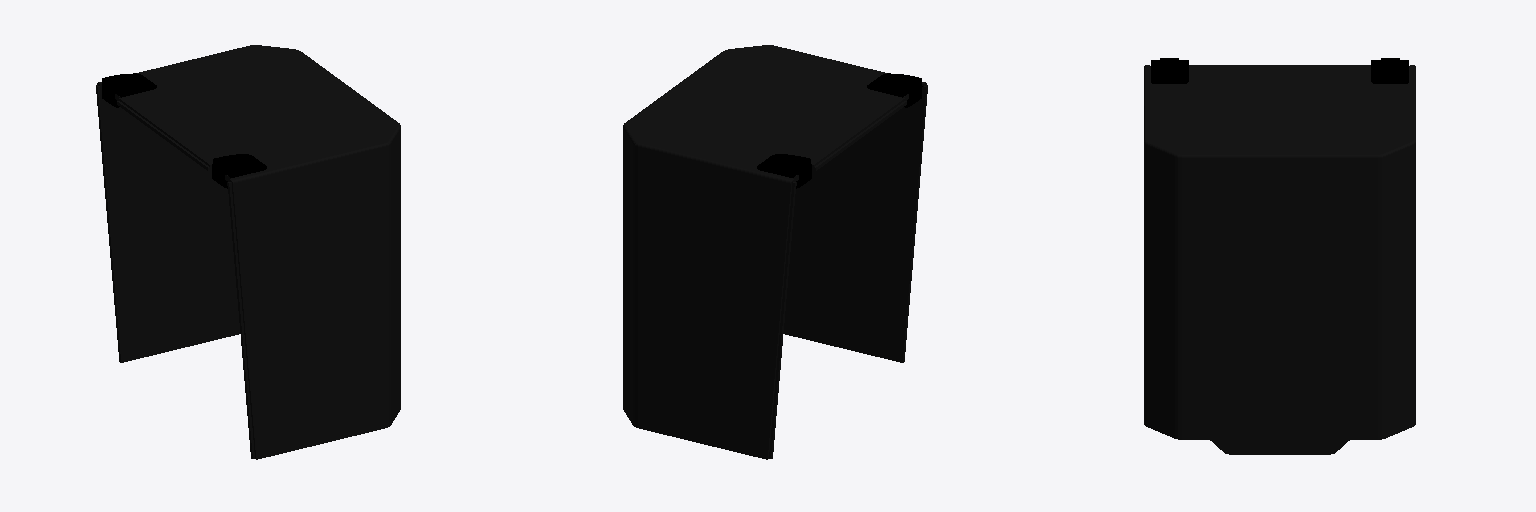
File: CW1_Lid.obj
3 views of the same model, side by side, from view 1: azimuth 30°, elevation 25°; view 2: azimuth 150°, elevation 25°; view 3: azimuth 270°, elevation 25° (orthographic).
Visible parts, largest first — view 1: CW1S_MODEL; view 2: CW1S_MODEL; view 3: CW1S_MODEL.
Part boxes in pixels (x1,y1,x2,y2): CW1S_MODEL: (96,45,400,459); CW1S_MODEL: (623,45,927,459); CW1S_MODEL: (1144,58,1415,454).
Bounding box in the file's own units: 174 × 268 × 217.